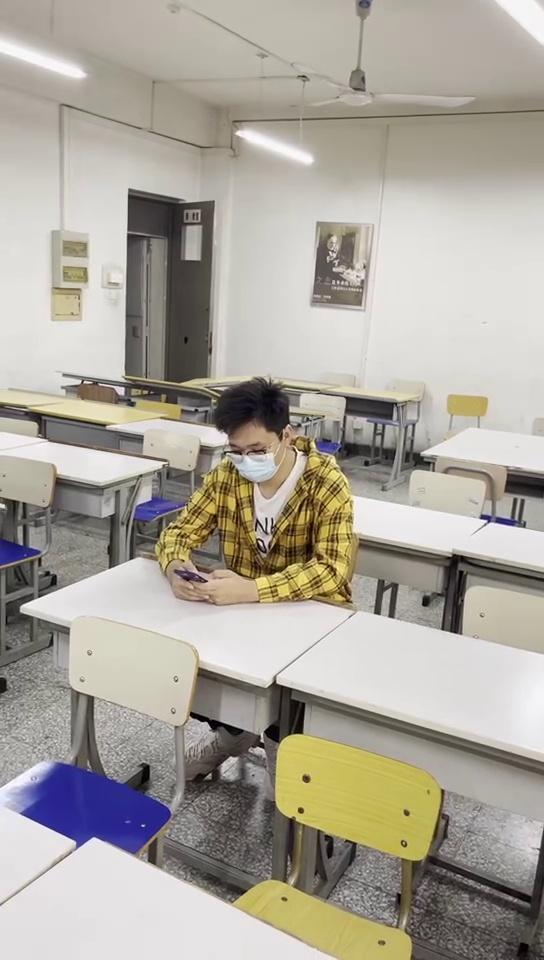phone: (160, 383, 355, 604)
